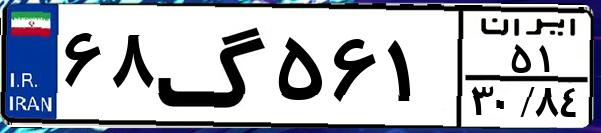0: (495, 70, 520, 125)
1: (385, 28, 445, 110), (537, 27, 568, 80)
3: (470, 70, 495, 125)
4: (560, 70, 590, 125)
5: (270, 28, 330, 110), (508, 27, 537, 80)
6: (330, 28, 385, 110), (57, 26, 110, 100)
8: (110, 28, 156, 98), (535, 70, 560, 125)
گ: (156, 12, 270, 120)
